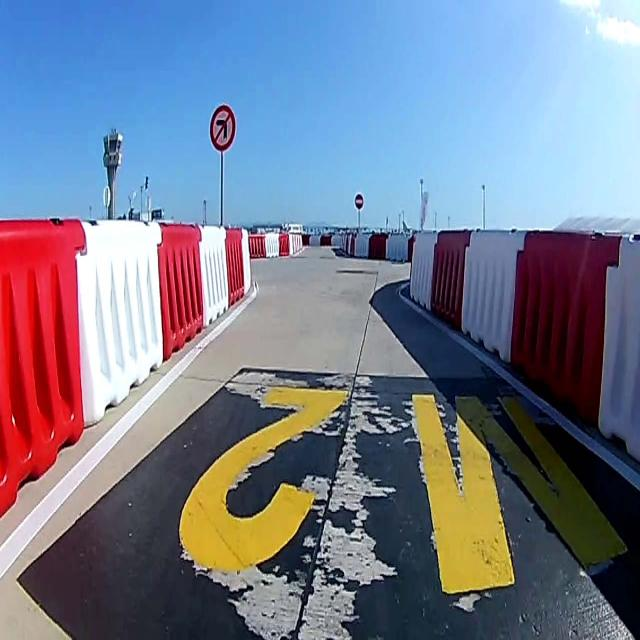girisyok: (354, 194, 364, 210)
soladonulmez: (210, 104, 236, 151)
